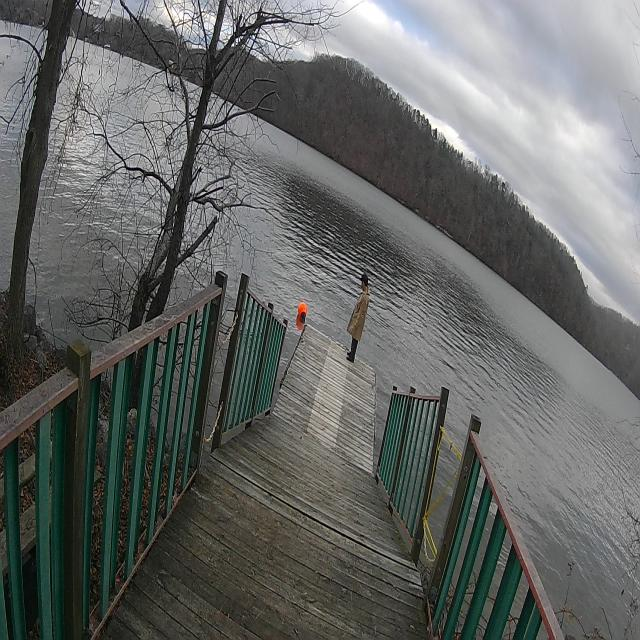Buoy: (296, 298, 308, 324)
